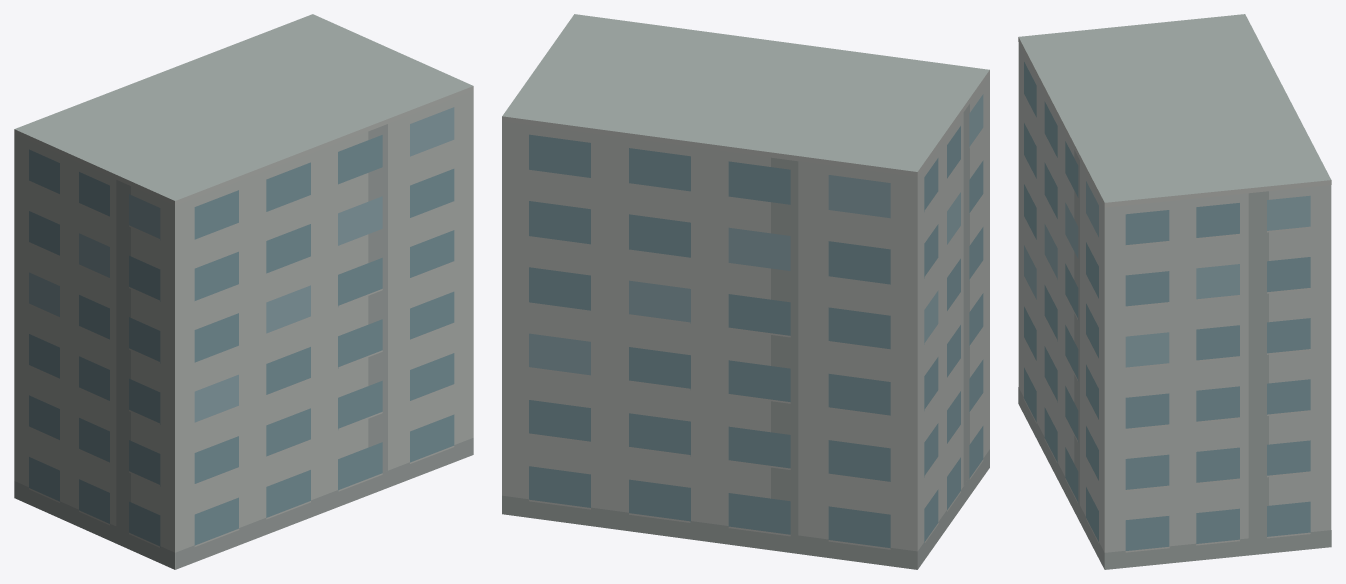
File: survey-upis-32830714.glb
3 views of the same model, side by side, from view 1: azimuth 30°, elevation 25°; view 2: azimuth 150°, elevation 25°; view 3: azimuth 270°, elevation 25° (orthographic). The views are drawn at different scales.
Visible parts, largest first — view 1: survey-upis-32830714.tmp; view 2: survey-upis-32830714.tmp; view 3: survey-upis-32830714.tmp.
Boxes of the visible parts, x1,y1,x2,y2 form: survey-upis-32830714.tmp: (14, 14, 473, 569); survey-upis-32830714.tmp: (502, 14, 989, 569); survey-upis-32830714.tmp: (1018, 14, 1331, 569).
Size of the model in its own units: 20.19 by 18.3 by 14.15.
